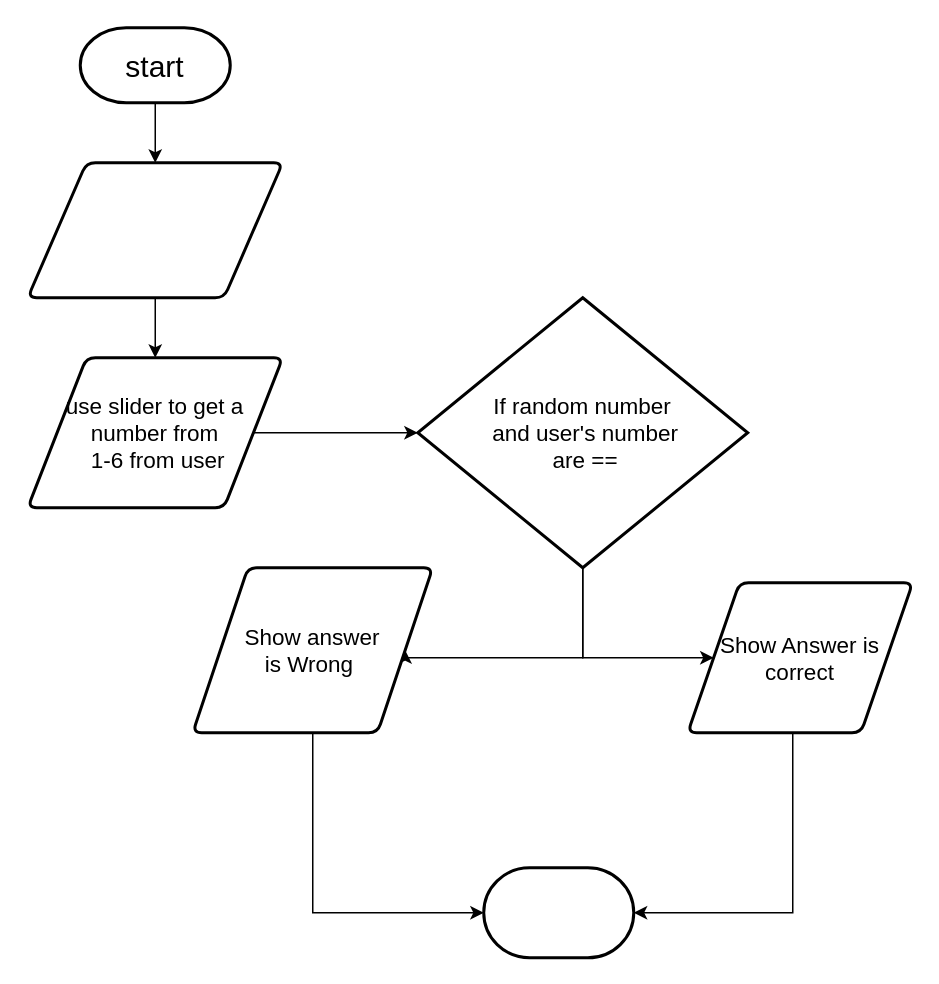
The diagram is 939 pixels wide and 984 high, and some of its shapes have lost their labels. The box of each missing label's shape, as (x1, y1, x2, y2) in pixels:
Get number from milliseconds and * 6: (26, 160, 284, 298)
stop: (482, 866, 634, 958)
